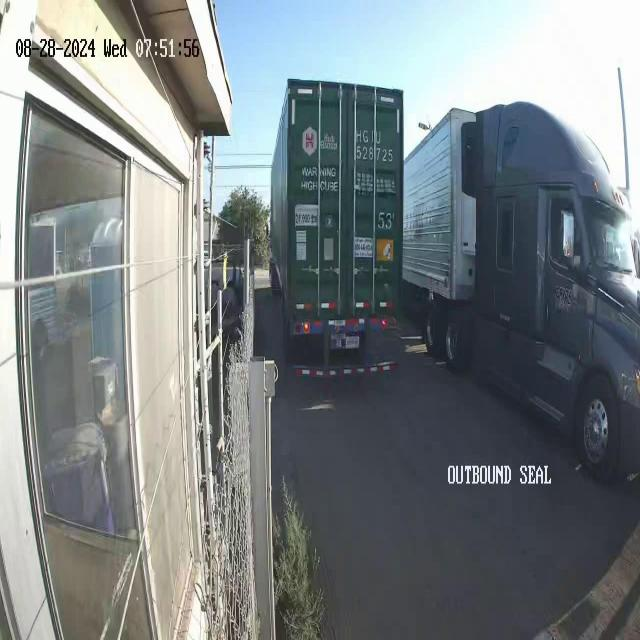TRUCK_IN: (403, 99, 640, 496)
TRUCK_OUT: (260, 79, 405, 385)
